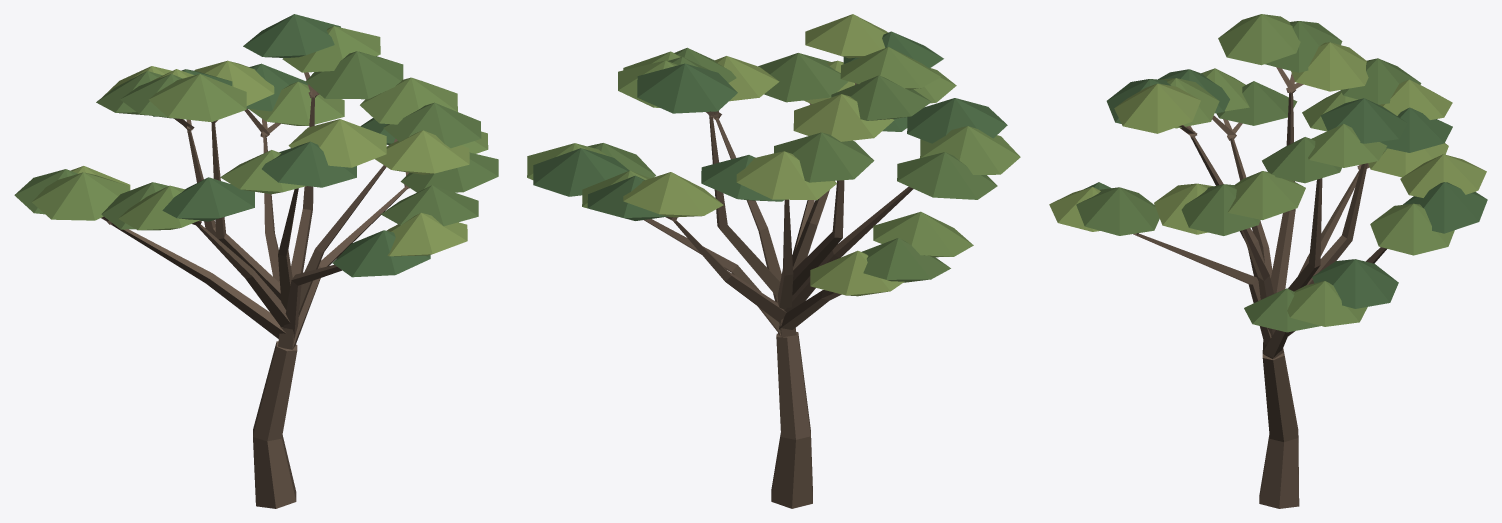
Rendered from Broadleaf_LOD2.glb.
The picture shows the model from 3 angles, left to right: view 1: azimuth 30°, elevation 25°; view 2: azimuth 150°, elevation 25°; view 3: azimuth 270°, elevation 25°; orthographic projection. The views are drawn at different scales.
Visible parts, largest first — view 1: Broadleaf_LOD2; view 2: Broadleaf_LOD2; view 3: Broadleaf_LOD2.
Part boxes in pixels (x1,y1,x2,y2): Broadleaf_LOD2: [14, 14, 498, 508]; Broadleaf_LOD2: [527, 14, 1020, 508]; Broadleaf_LOD2: [1049, 14, 1487, 508].
Bounding box in the file's own units: 9.02 × 9 × 7.97.
